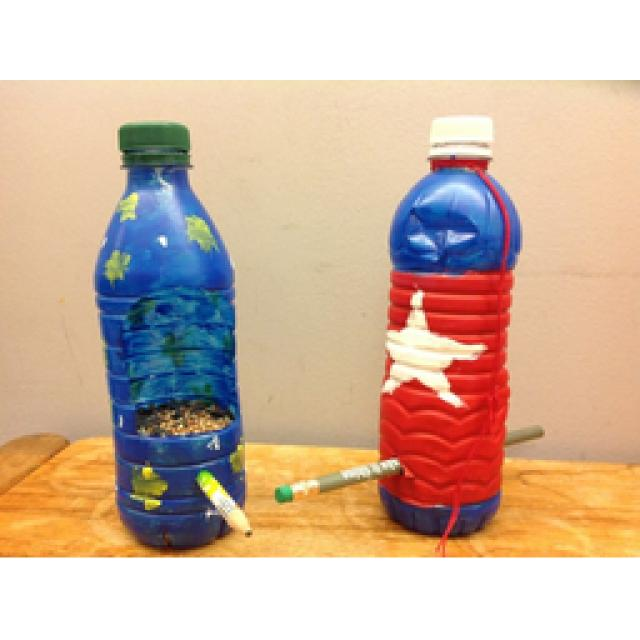plastic_water_bottles: (96, 121, 245, 550), (380, 119, 520, 542)
